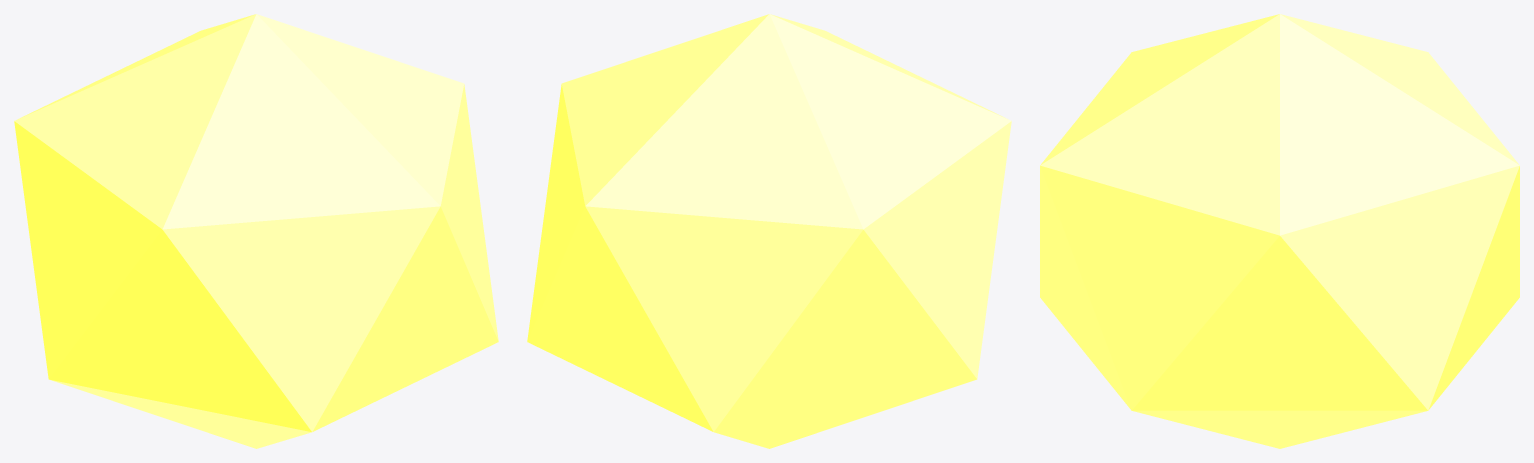
File: ers-dijkstrachip.glb
3 renders of one model, left to right at view 1: azimuth 30°, elevation 25°; view 2: azimuth 150°, elevation 25°; view 3: azimuth 270°, elevation 25°, orthographic.
Parts seen in each view (by area): view 1: DijkstraChip; view 2: DijkstraChip; view 3: DijkstraChip.
Boxes of the visible parts, x1,y1,x2,y2 form: DijkstraChip: [14, 14, 498, 448]; DijkstraChip: [527, 14, 1011, 448]; DijkstraChip: [1040, 14, 1519, 448].
Bounding box in the file's own units: 1 × 1 × 1.
